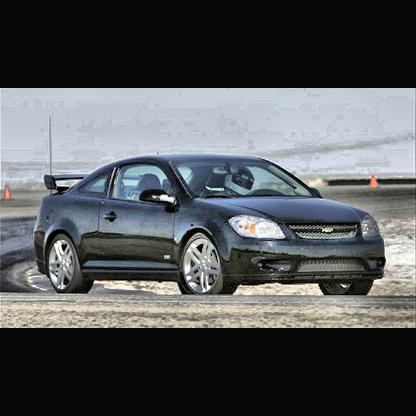Chevrolet Cobalt SS 2010: (32, 152, 389, 298)
